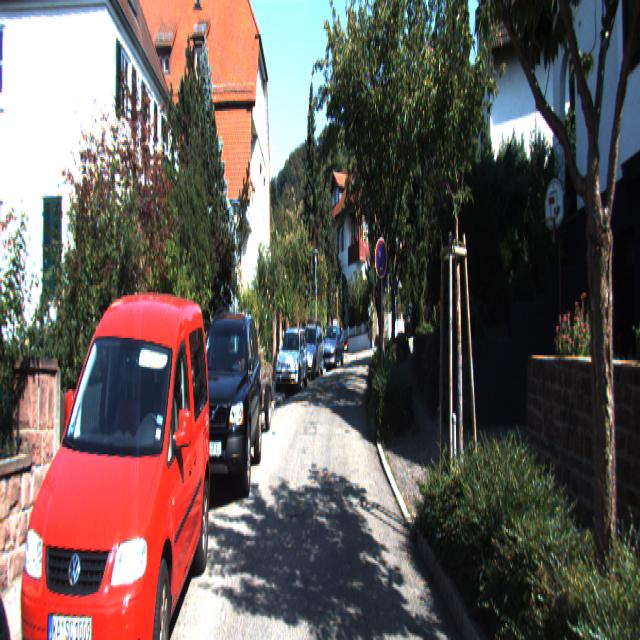Car: (10, 266, 214, 638), (186, 303, 264, 516), (226, 364, 275, 442), (274, 324, 309, 398), (299, 322, 325, 383), (323, 323, 346, 373)
